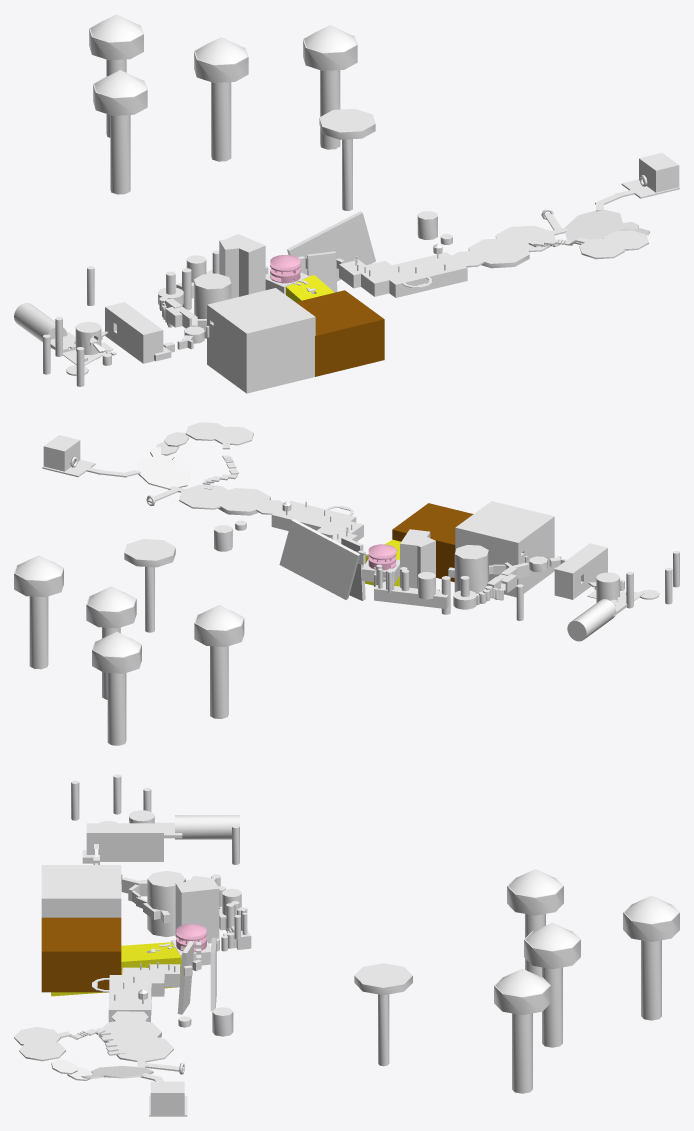
Rendered from iauf_demomap_1.gltf.
3 views of the same model, one above another, from view 1: azimuth 30°, elevation 25°; view 2: azimuth 150°, elevation 25°; view 3: azimuth 270°, elevation 25° (orthographic). The views are drawn at different scales.
Parts seen in each view (by area): view 1: CSGCombiner3D6, th2, th24, th42, wall2, th34, CSGCombiner3D2, tta33, platform_32, CSGBox3D202, CSGCylinder3D410, temple3 (+12 smaller); view 2: CSGCombiner3D6, wall2, th34, th42, th2, th24, CSGCombiner3D2, tta33, CSGCylinder3D11, platform_32, CSGCylinder3D410, BossArena2 (+11 smaller); view 3: CSGCombiner3D6, th34, th42, th24, CSGCombiner3D2, th2, tta33, CSGBox3D202, CSGCylinder3D11, platform_32, hall2, temple3 (+8 smaller).
Boxes of the visible parts, x1,y1,x2,y2 form: CSGCombiner3D6: (207, 275, 384, 393); th2: (93, 70, 147, 194); th24: (194, 37, 248, 161); th42: (303, 25, 357, 149); wall2: (287, 211, 375, 281); th34: (89, 14, 143, 137); CSGCombiner3D2: (105, 302, 163, 363); tta33: (319, 108, 375, 210); platform_32: (377, 252, 467, 297); CSGBox3D202: (222, 234, 265, 296); CSGCylinder3D410: (565, 209, 623, 244); temple3: (639, 153, 679, 192); CSGCombiner3D6: (365, 501, 554, 597); wall2: (279, 519, 360, 599); th34: (92, 632, 141, 745); th42: (14, 555, 63, 669); th2: (194, 605, 244, 718); th24: (86, 586, 136, 699); CSGCombiner3D2: (554, 543, 607, 599); tta33: (124, 539, 175, 632); CSGCylinder3D11: (454, 545, 488, 601); platform_32: (271, 501, 356, 530); CSGCylinder3D410: (136, 456, 190, 489); BossArena2: (214, 488, 270, 515); CSGCombiner3D6: (41, 865, 181, 996); th34: (623, 895, 679, 1020); th42: (494, 968, 550, 1093); th24: (524, 922, 580, 1047); CSGCombiner3D2: (86, 823, 163, 861); th2: (507, 869, 563, 976); tta33: (354, 963, 412, 1066); CSGBox3D202: (175, 879, 219, 943); CSGCylinder3D11: (147, 870, 185, 937); platform_32: (108, 975, 151, 1022); hall2: (175, 815, 239, 839); temple3: (150, 1081, 184, 1116).
Bounding box in the file's own units: 930 × 172 × 820.
